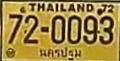0: (67, 14, 81, 43), (50, 14, 64, 43)
2: (23, 14, 38, 43)
3: (98, 15, 113, 44)
7: (8, 13, 22, 43)
9: (82, 15, 98, 43)
NPT: (36, 46, 84, 61)
